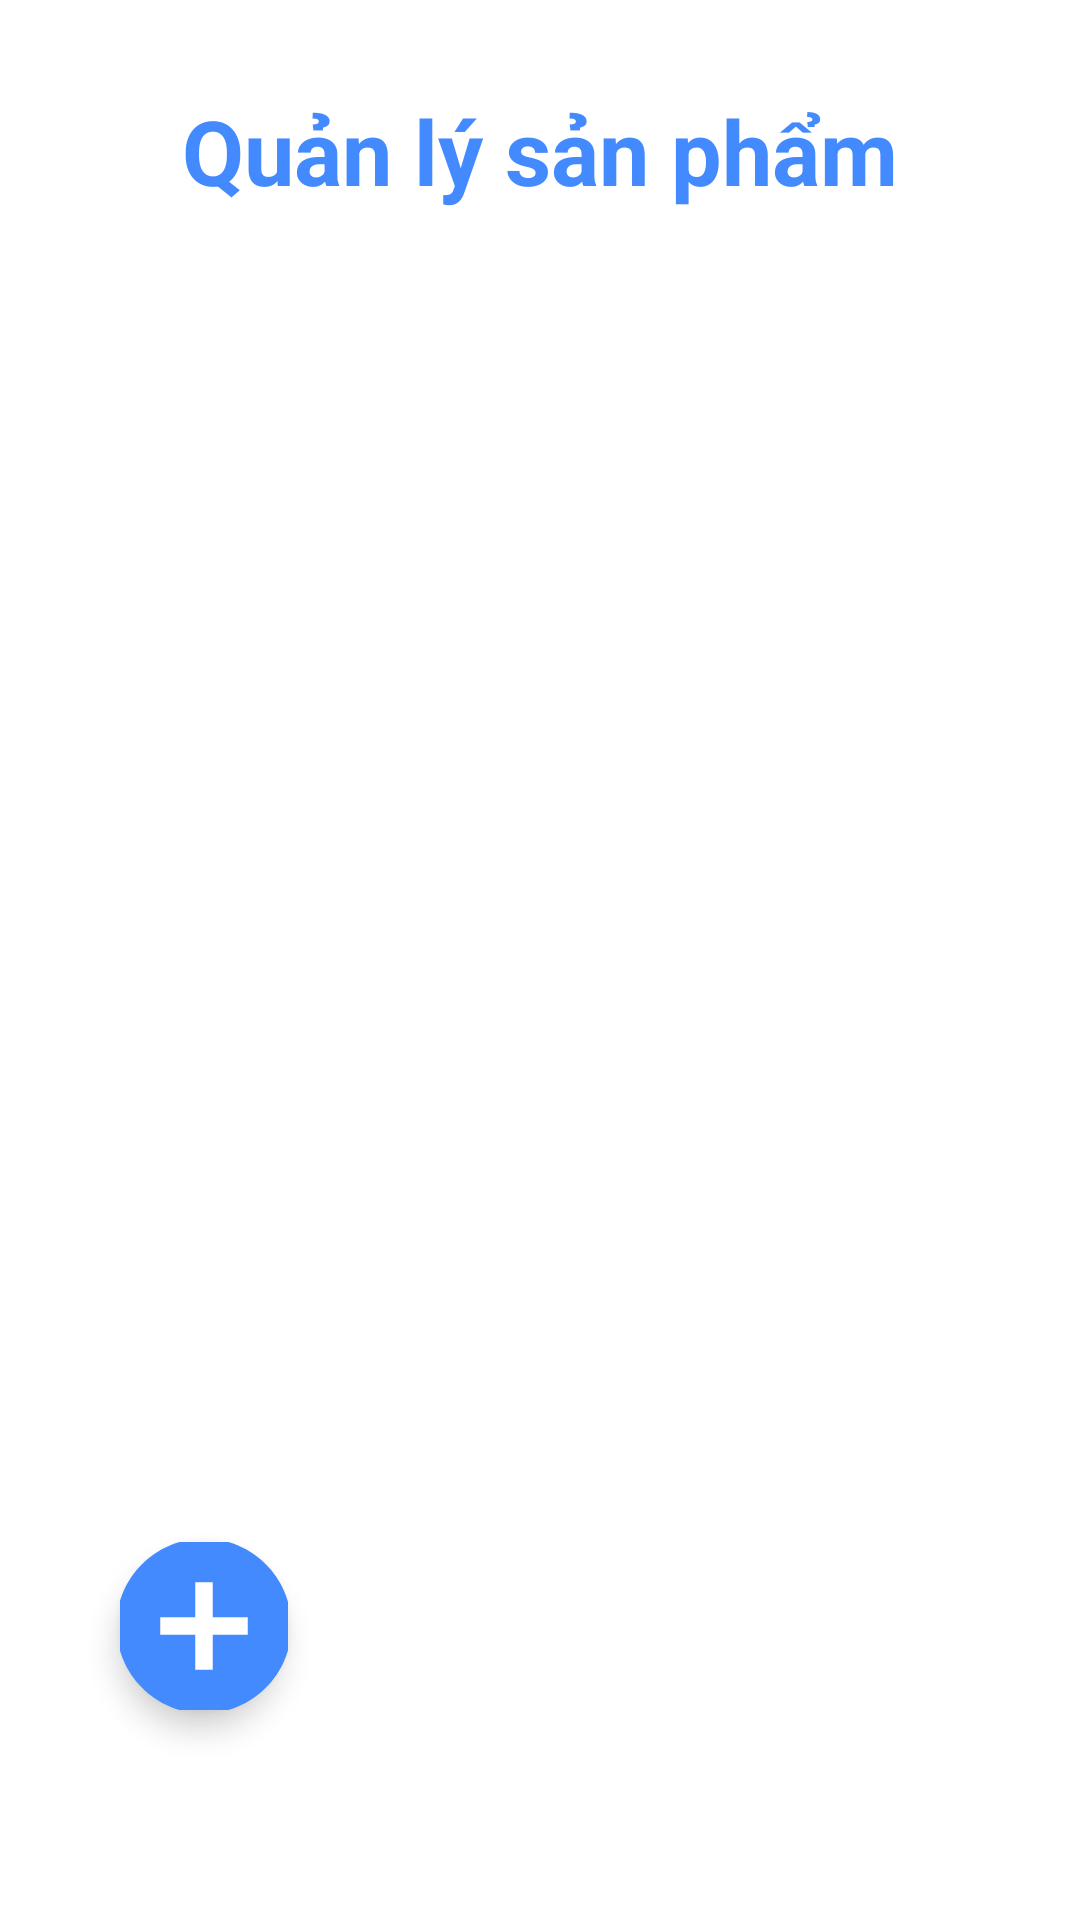

Where icons sit on this 1080 x 1920 app screen, as (x1, y1, x2, y2):
add circle: (120, 1542, 288, 1710)
